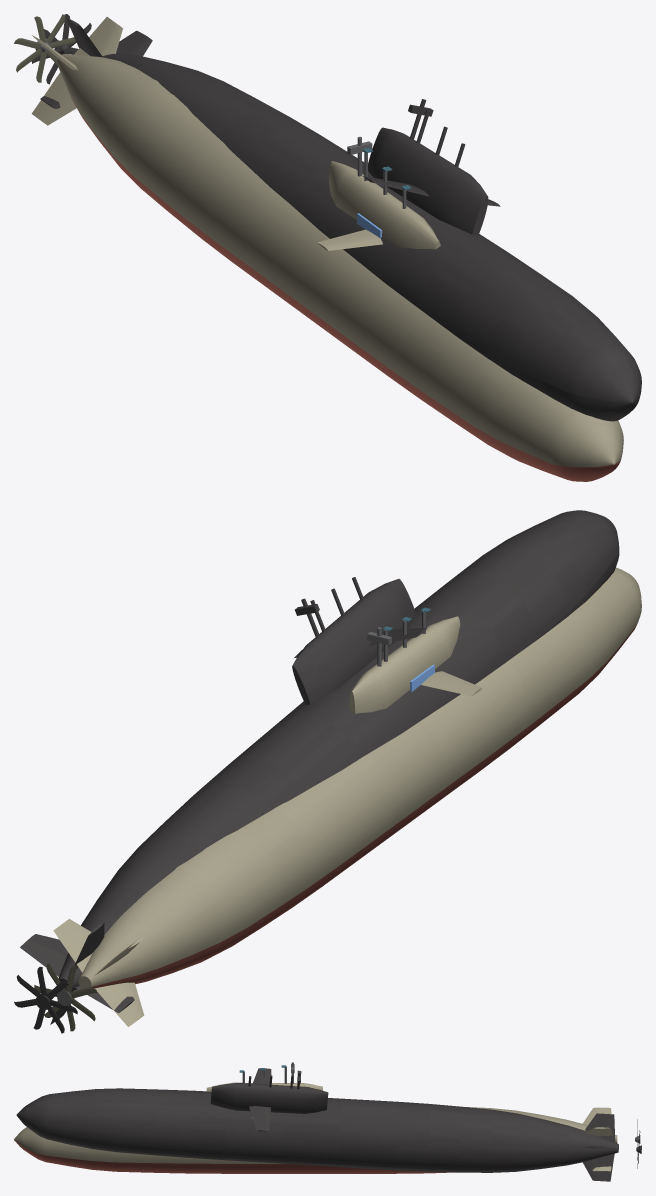
The model's file is submarine__soryu_class.glb.
3 renders of one model, top to bottom at view 1: azimuth 30°, elevation 25°; view 2: azimuth 150°, elevation 25°; view 3: azimuth 270°, elevation 25°, orthographic. The views are drawn at different scales.
Parts seen in each view (by area): view 1: Hull_Mesh, Wreck; view 2: Hull_Mesh, Wreck; view 3: Wreck, Hull_Mesh.
Part boxes in pixels (box(x1,y1,x2,y2)): Hull_Mesh: box(14, 14, 623, 481); Wreck: box(31, 14, 641, 421); Hull_Mesh: box(34, 567, 641, 1031); Wreck: box(14, 510, 619, 1033); Wreck: box(16, 1068, 641, 1181); Hull_Mesh: box(14, 1065, 640, 1173).
Size of what is drawn, in the model's own units: 14.7 by 17.1 by 83.06.
